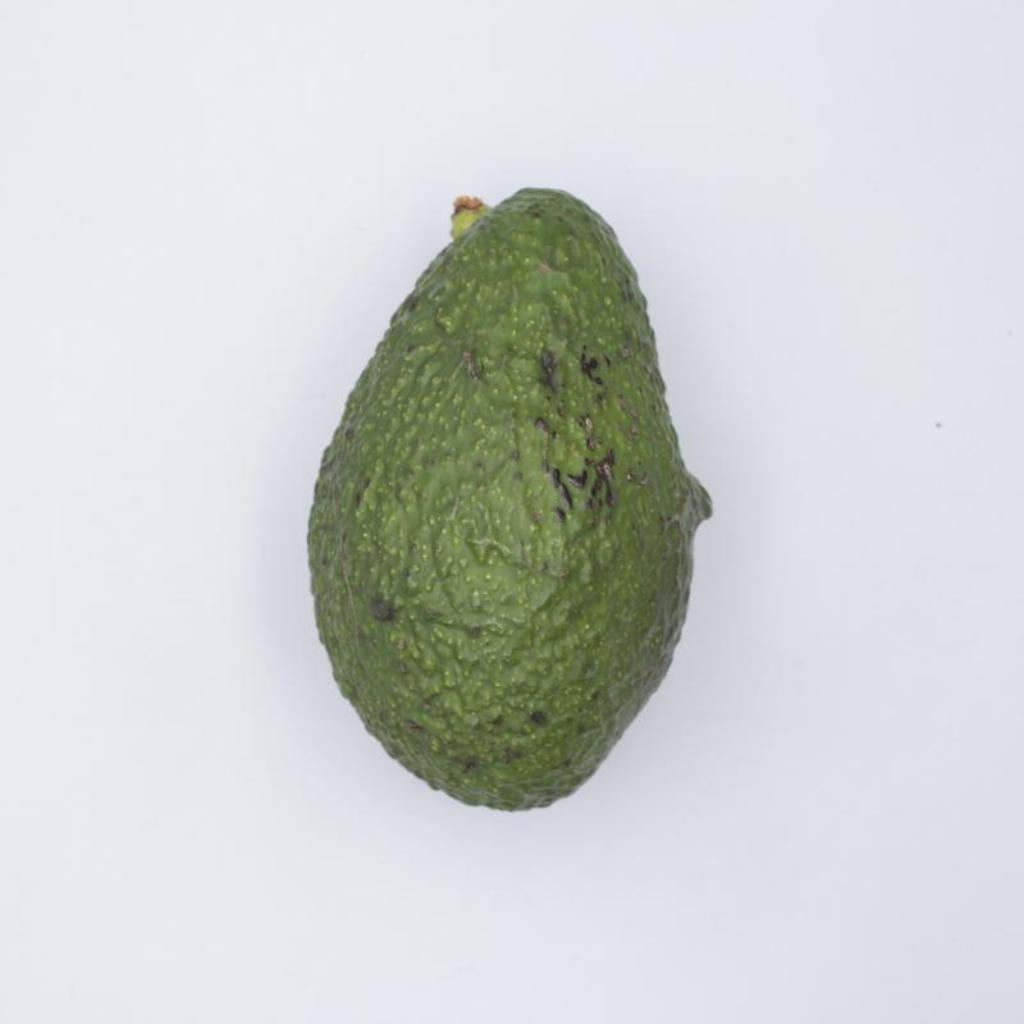rona: (308, 189, 710, 809)
